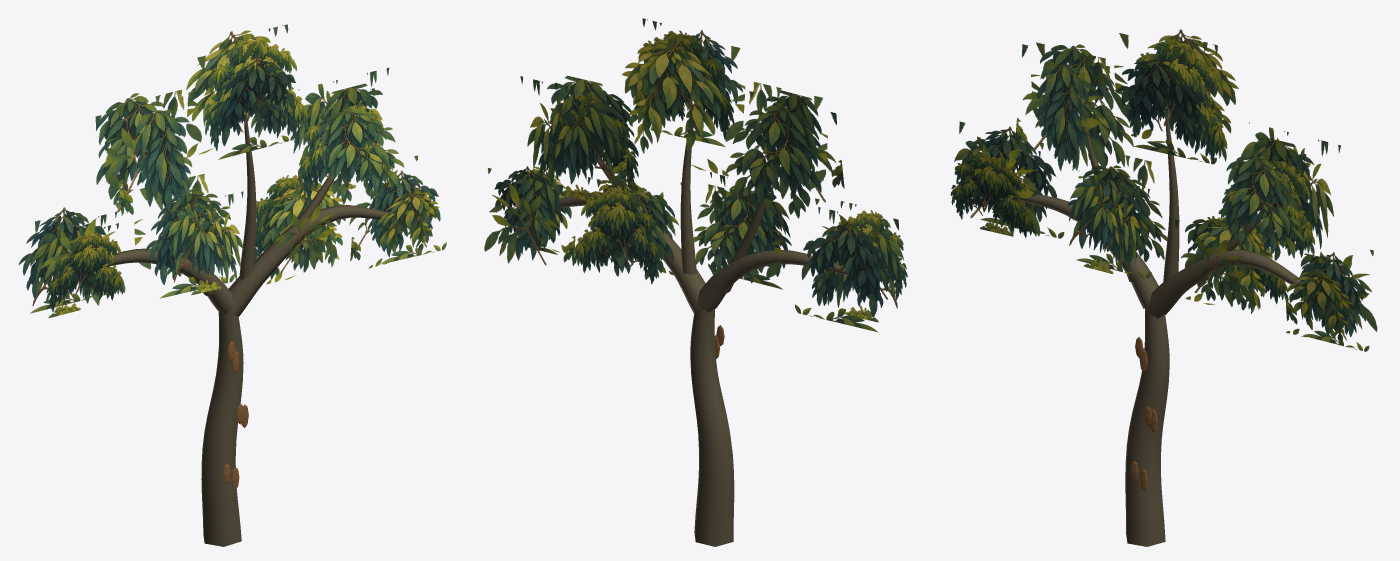
The model's file is TREE_EUCALYPTUS_001_LOD_GAMEPLAY.glb.
The picture shows the model from 3 angles, left to right: view 1: azimuth 30°, elevation 25°; view 2: azimuth 150°, elevation 25°; view 3: azimuth 330°, elevation 25°; orthographic projection. The views are drawn at different scales.
Visible parts, largest first — view 1: GG_EUC_V4_MAIN_TRUNK, GG_EUC_FRONT_ISLAND_03_CLUSTER_00, GG_EUC_FRONT_ISLAND_02_CLUSTER_00, GG_EUC_FRONT_ISLAND_01_CLUSTER_00, GG_EUC_BODY_ISLAND_02_CLUSTER_01, GG_EUC_FRONT_ISLAND_05_CLUSTER_00, GG_EUC_FRONT_ISLAND_00_CLUSTER_00, GG_EUC_REAR_ISLAND_01_CLUSTER_00, GG_EUC_V4_RIGHT_PRIMARY, GG_EUC_FRONT_ISLAND_04_CLUSTER_00, GG_EUC_BODY_ISLAND_05_CLUSTER_00, GG_EUC_BODY_ISLAND_03_CLUSTER_00 (+18 smaller); view 2: GG_EUC_V4_MAIN_TRUNK, GG_EUC_REAR_ISLAND_02_CLUSTER_00, GG_EUC_REAR_ISLAND_01_CLUSTER_00, GG_EUC_REAR_ISLAND_03_CLUSTER_00, GG_EUC_REAR_ISLAND_06_CLUSTER_00, GG_EUC_REAR_ISLAND_00_CLUSTER_00, GG_EUC_BODY_ISLAND_05_CLUSTER_01, GG_EUC_BODY_ISLAND_02_CLUSTER_01, GG_EUC_BODY_ISLAND_04_CLUSTER_00, GG_EUC_V4_LEFT_PRIMARY, GG_EUC_BODY_ISLAND_00_CLUSTER_00, GG_EUC_REAR_ISLAND_04_CLUSTER_00 (+16 smaller); view 3: GG_EUC_V4_MAIN_TRUNK, GG_EUC_FRONT_ISLAND_03_CLUSTER_00, GG_EUC_FRONT_ISLAND_02_CLUSTER_00, GG_EUC_FRONT_ISLAND_01_CLUSTER_00, GG_EUC_BODY_ISLAND_02_CLUSTER_01, GG_EUC_FRONT_ISLAND_00_CLUSTER_00, GG_EUC_FRONT_ISLAND_05_CLUSTER_00, GG_EUC_REAR_ISLAND_01_CLUSTER_00, GG_EUC_V4_RIGHT_PRIMARY, GG_EUC_FRONT_ISLAND_04_CLUSTER_00, GG_EUC_REAR_ISLAND_00_CLUSTER_00, GG_EUC_BODY_ISLAND_03_CLUSTER_00 (+19 smaller).
Part boxes in pixels (x1,y1,x2,y2): GG_EUC_V4_MAIN_TRUNK: [201, 311, 243, 546]; GG_EUC_FRONT_ISLAND_03_CLUSTER_00: [318, 106, 404, 204]; GG_EUC_FRONT_ISLAND_02_CLUSTER_00: [211, 57, 296, 159]; GG_EUC_FRONT_ISLAND_01_CLUSTER_00: [119, 109, 190, 215]; GG_EUC_BODY_ISLAND_02_CLUSTER_01: [204, 24, 308, 150]; GG_EUC_FRONT_ISLAND_05_CLUSTER_00: [167, 191, 243, 295]; GG_EUC_FRONT_ISLAND_00_CLUSTER_00: [46, 223, 123, 312]; GG_EUC_REAR_ISLAND_01_CLUSTER_00: [96, 93, 191, 210]; GG_EUC_V4_RIGHT_PRIMARY: [228, 205, 389, 316]; GG_EUC_FRONT_ISLAND_04_CLUSTER_00: [368, 189, 439, 268]; GG_EUC_BODY_ISLAND_05_CLUSTER_00: [145, 202, 234, 298]; GG_EUC_BODY_ISLAND_03_CLUSTER_00: [298, 88, 392, 199]; GG_EUC_V4_MAIN_TRUNK: [690, 308, 734, 546]; GG_EUC_REAR_ISLAND_02_CLUSTER_00: [621, 40, 728, 176]; GG_EUC_REAR_ISLAND_01_CLUSTER_00: [726, 102, 821, 218]; GG_EUC_REAR_ISLAND_03_CLUSTER_00: [520, 76, 620, 200]; GG_EUC_REAR_ISLAND_06_CLUSTER_00: [572, 177, 662, 284]; GG_EUC_REAR_ISLAND_00_CLUSTER_00: [795, 220, 892, 332]; GG_EUC_BODY_ISLAND_05_CLUSTER_01: [689, 185, 776, 283]; GG_EUC_BODY_ISLAND_02_CLUSTER_01: [633, 18, 734, 139]; GG_EUC_BODY_ISLAND_04_CLUSTER_00: [514, 173, 575, 261]; GG_EUC_V4_LEFT_PRIMARY: [697, 249, 847, 312]; GG_EUC_BODY_ISLAND_00_CLUSTER_00: [818, 207, 903, 322]; GG_EUC_REAR_ISLAND_04_CLUSTER_00: [484, 168, 562, 265]; GG_EUC_V4_MAIN_TRUNK: [1125, 308, 1169, 546]; GG_EUC_FRONT_ISLAND_03_CLUSTER_00: [1221, 156, 1303, 260]; GG_EUC_FRONT_ISLAND_02_CLUSTER_00: [1116, 56, 1216, 164]; GG_EUC_FRONT_ISLAND_01_CLUSTER_00: [1014, 61, 1093, 171]; GG_EUC_BODY_ISLAND_02_CLUSTER_01: [1125, 38, 1227, 163]; GG_EUC_FRONT_ISLAND_00_CLUSTER_00: [950, 152, 1036, 237]; GG_EUC_FRONT_ISLAND_05_CLUSTER_00: [1068, 170, 1149, 274]; GG_EUC_REAR_ISLAND_01_CLUSTER_00: [1038, 44, 1133, 169]; GG_EUC_V4_RIGHT_PRIMARY: [1145, 249, 1301, 318]; GG_EUC_FRONT_ISLAND_04_CLUSTER_00: [1286, 268, 1352, 343]; GG_EUC_REAR_ISLAND_00_CLUSTER_00: [974, 126, 1064, 238]; GG_EUC_BODY_ISLAND_03_CLUSTER_00: [1222, 148, 1314, 257].
Bounding box in the file's own units: 6.18 × 7.03 × 0.8485.
Materials: 3 (1 with a texture image).
